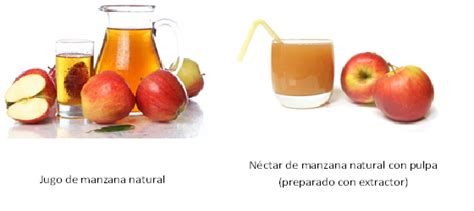apple: (370, 64, 437, 123), (78, 69, 136, 127), (133, 69, 188, 124), (340, 51, 390, 108), (170, 56, 208, 95)
